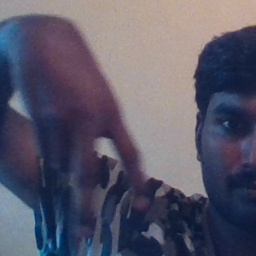Y: (23, 53, 155, 243)
